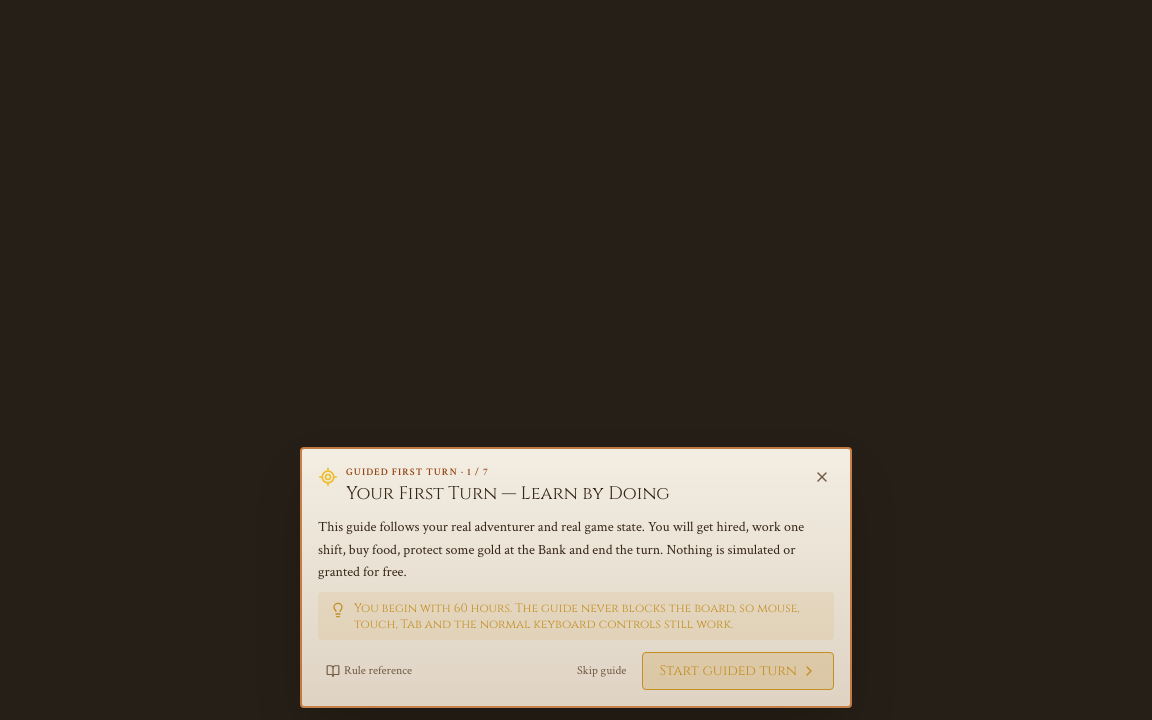
it: TutorialOverlay guided first turn › keeps the corrected rule cards as a reference fallback
The width and height of the screenshot is (1152, 720).
Click the button "Rule reference" at (369,671), box [318,659,420,683]
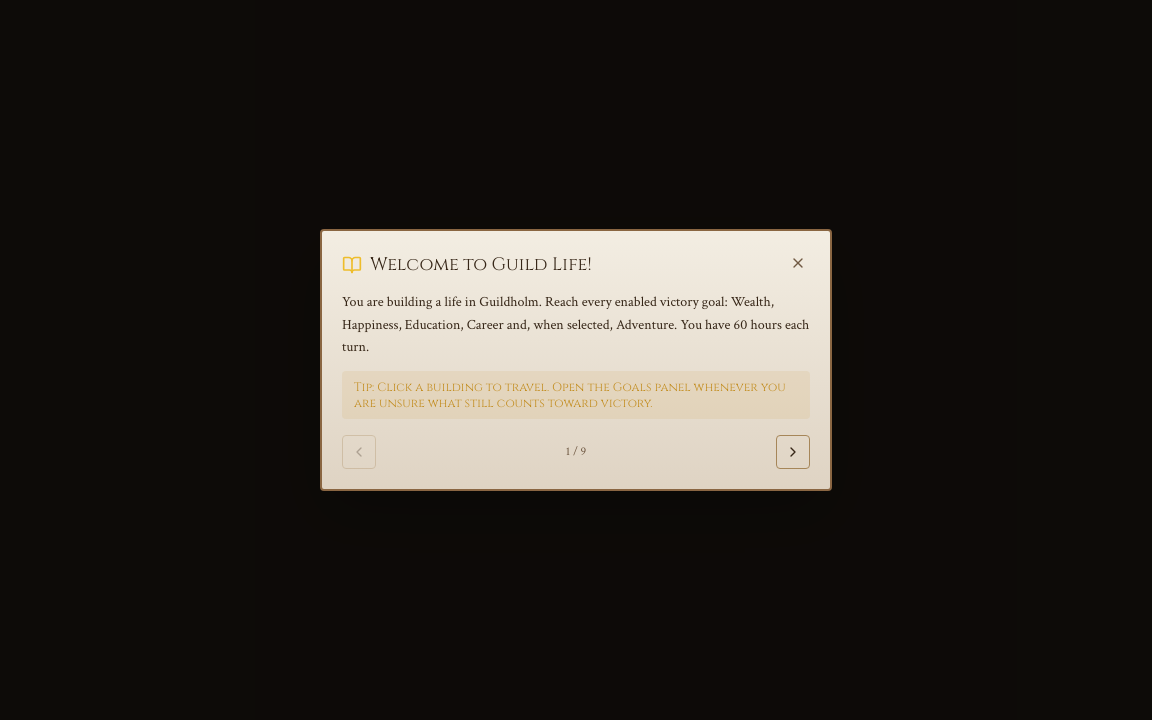
Result: the dialog named "tutorial rule reference" is shown
Result: the heading "Welcome to Guild Life!" is shown at [370,251,592,279]
Result: the text "60 hours each turn" is shown at [342,293,809,356]
